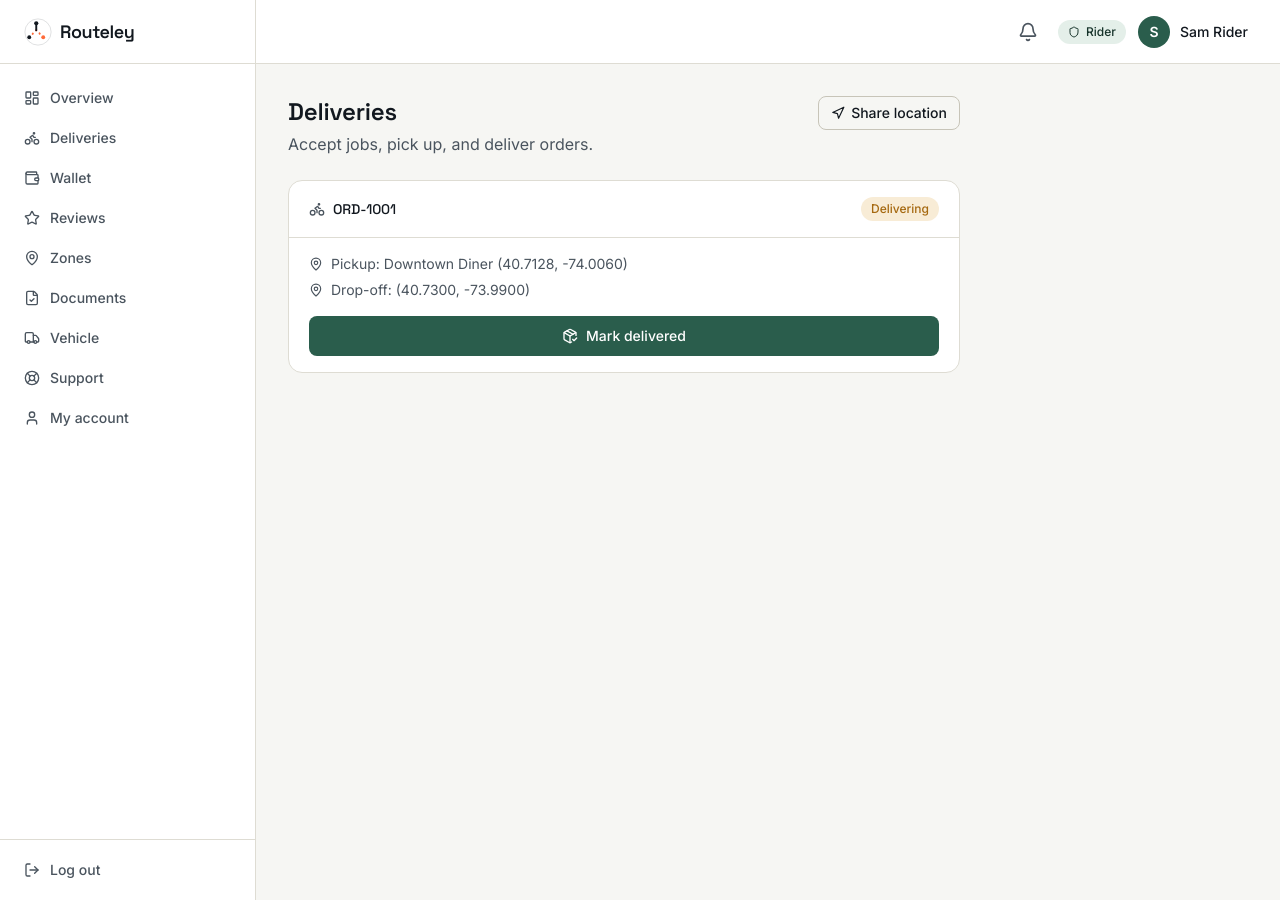
DeliveriesPage - critical rider delivery flow › completing the final leg clears the active delivery and reloads for new offers
Step 1. Click the button "Mark delivered" → (624,336), box x1=309 y1=316 x2=939 y2=356
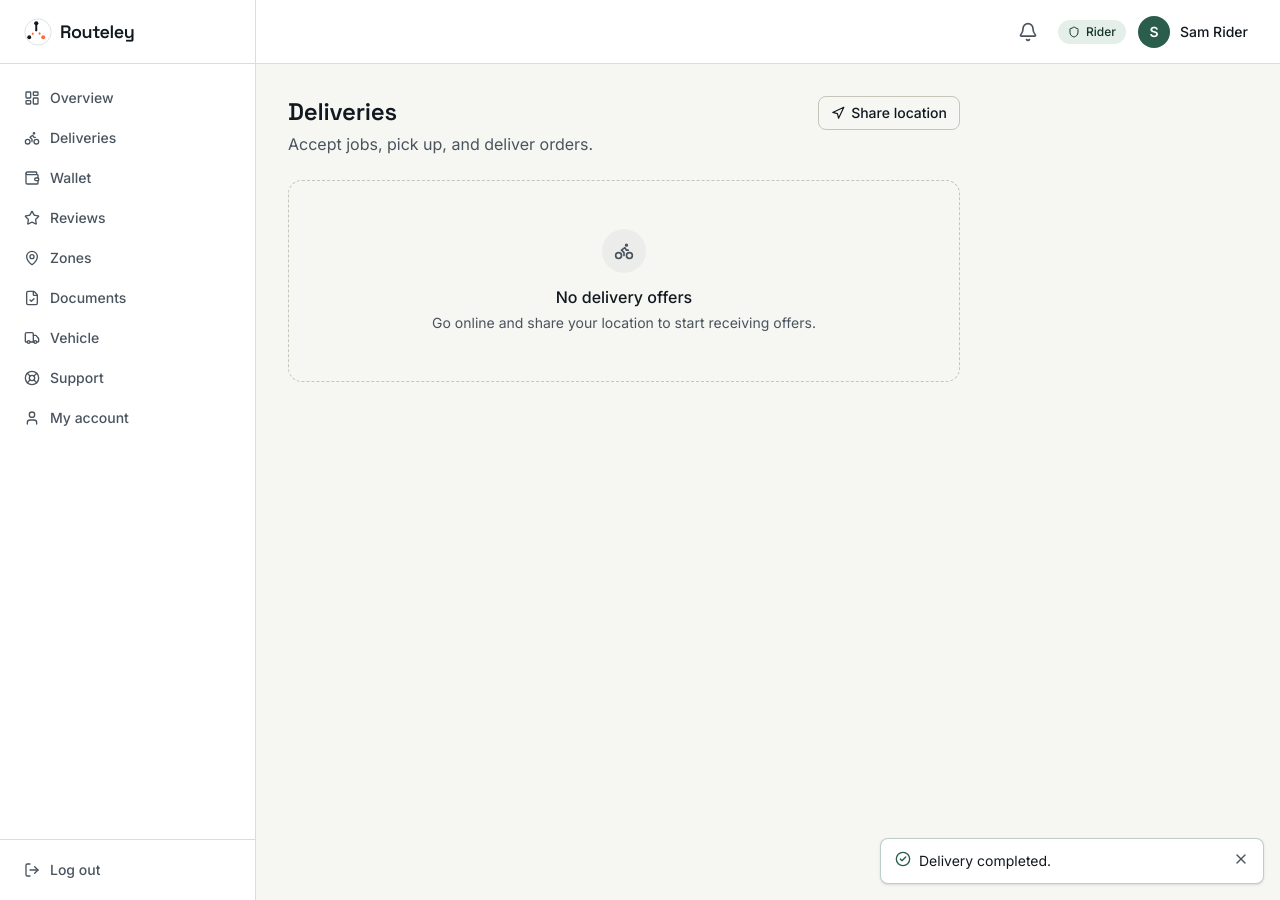
Expected: the text "Delivery completed." is shown, x1=919 y1=852 x2=1051 y2=869
Expected: the text "No delivery offers" is shown, x1=556 y1=287 x2=692 y2=307
